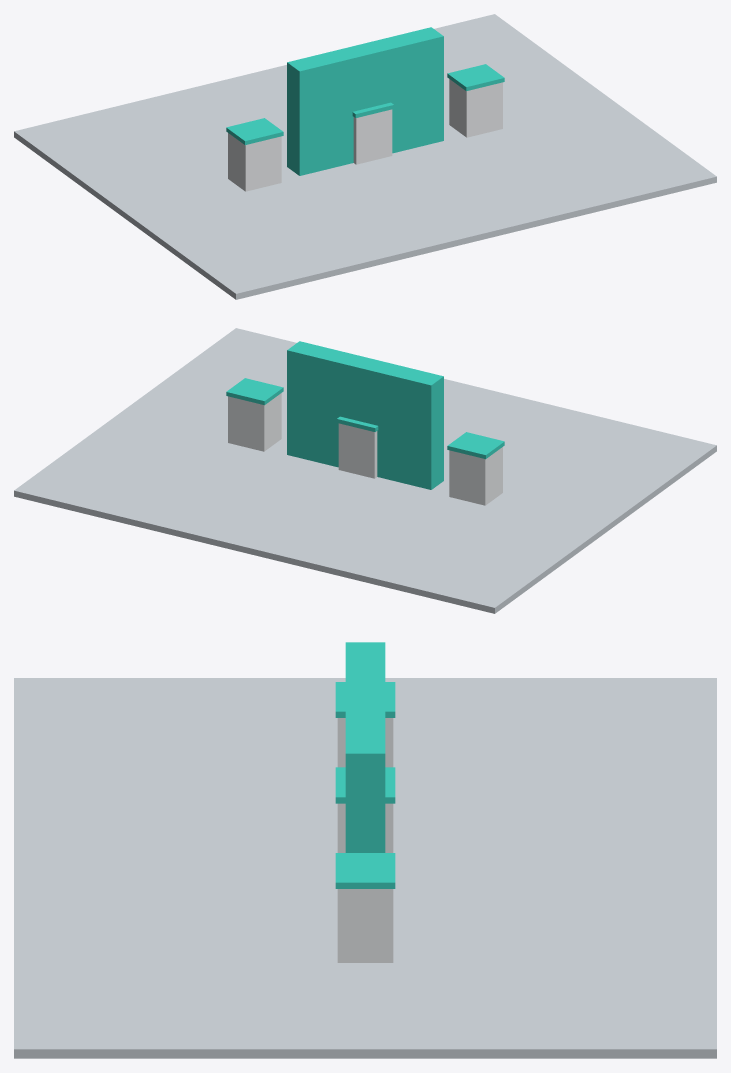
The picture shows the model from 3 angles, top to bottom: view 1: azimuth 30°, elevation 25°; view 2: azimuth 150°, elevation 25°; view 3: azimuth 270°, elevation 25°; orthographic projection. The views are drawn at different scales.
Visible parts, largest first — view 1: Exhibition Booth Concept; view 2: Exhibition Booth Concept; view 3: Exhibition Booth Concept.
Part boxes in pixels (x1=…): Exhibition Booth Concept: x1=14, y1=14, x2=716, y2=299; Exhibition Booth Concept: x1=14, y1=328, x2=716, y2=613; Exhibition Booth Concept: x1=14, y1=642, x2=716, y2=1058.
Bounding box in the file's own units: 10 × 2.2 × 8.
